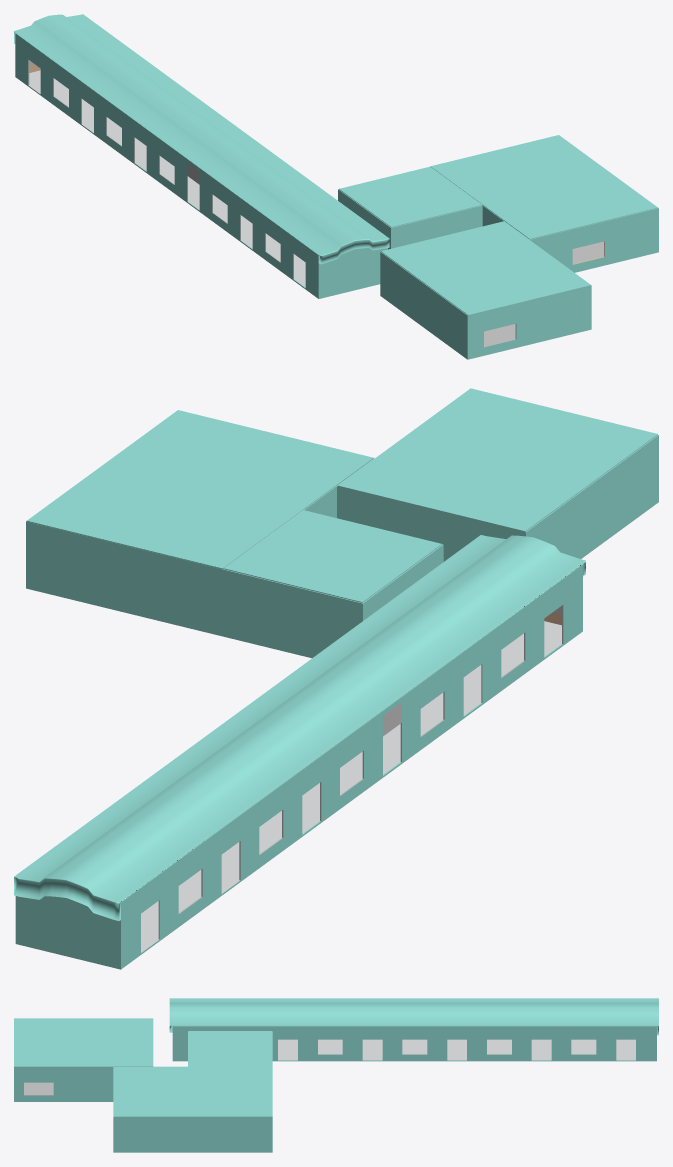
The model's file is Mapa fbx.fbx.
3 views of the same model, one above another, from view 1: azimuth 30°, elevation 25°; view 2: azimuth 150°, elevation 25°; view 3: azimuth 270°, elevation 25° (orthographic). The views are drawn at different scales.
Parts seen in each view (by area): view 1: TechoVagon, Vagon, TechoGaleria, TechoSala, Sala, Galeria, TechoGaleria.001, Cuarto; view 2: TechoVagon, Vagon, TechoGaleria, TechoSala, Galeria, Sala, TechoGaleria.001, Cuarto; view 3: Vagon, TechoVagon, TechoGaleria, TechoSala, Galeria, Sala, TechoGaleria.001.
Boxes of the visible parts, box(x1,y1,x2,y2) form: TechoVagon: box(14, 14, 389, 264); Vagon: box(15, 33, 387, 298); TechoGaleria: box(430, 135, 657, 239); TechoSala: box(381, 221, 591, 315); Sala: box(380, 252, 591, 359); Galeria: box(482, 205, 658, 272); TechoGaleria.001: box(339, 166, 482, 227); Cuarto: box(338, 189, 482, 249); TechoVagon: box(14, 535, 585, 920); Vagon: box(15, 565, 582, 969); TechoGaleria: box(26, 410, 373, 569); TechoSala: box(338, 388, 657, 531); Galeria: box(26, 458, 374, 636); Sala: box(337, 435, 658, 561); TechoGaleria.001: box(223, 510, 441, 602); Cuarto: box(223, 544, 443, 658); Vagon: box(172, 1026, 656, 1061); TechoVagon: box(169, 998, 658, 1035); TechoGaleria: box(114, 1066, 272, 1117); TechoSala: box(14, 1018, 153, 1066); Galeria: box(113, 1067, 272, 1152); Sala: box(14, 1066, 113, 1101); TechoGaleria.001: box(188, 1031, 271, 1066).
Size of the model in its own units: 2810 by 460 by 6485.
